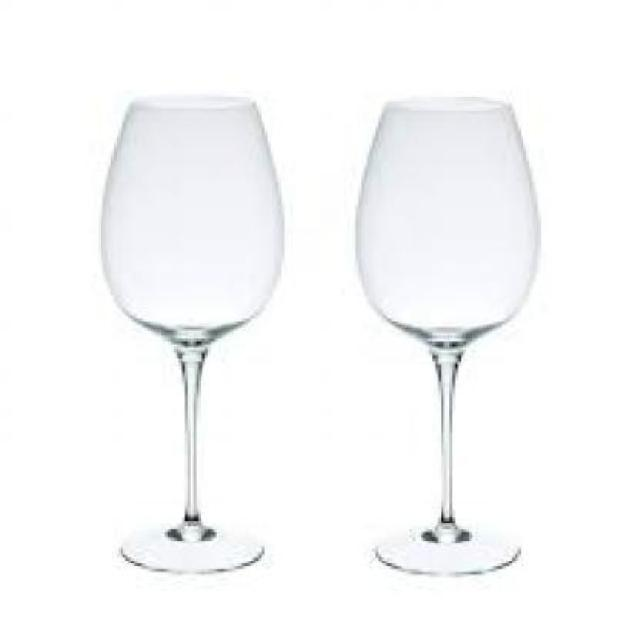kaca: (100, 91, 285, 569), (352, 94, 536, 572)
